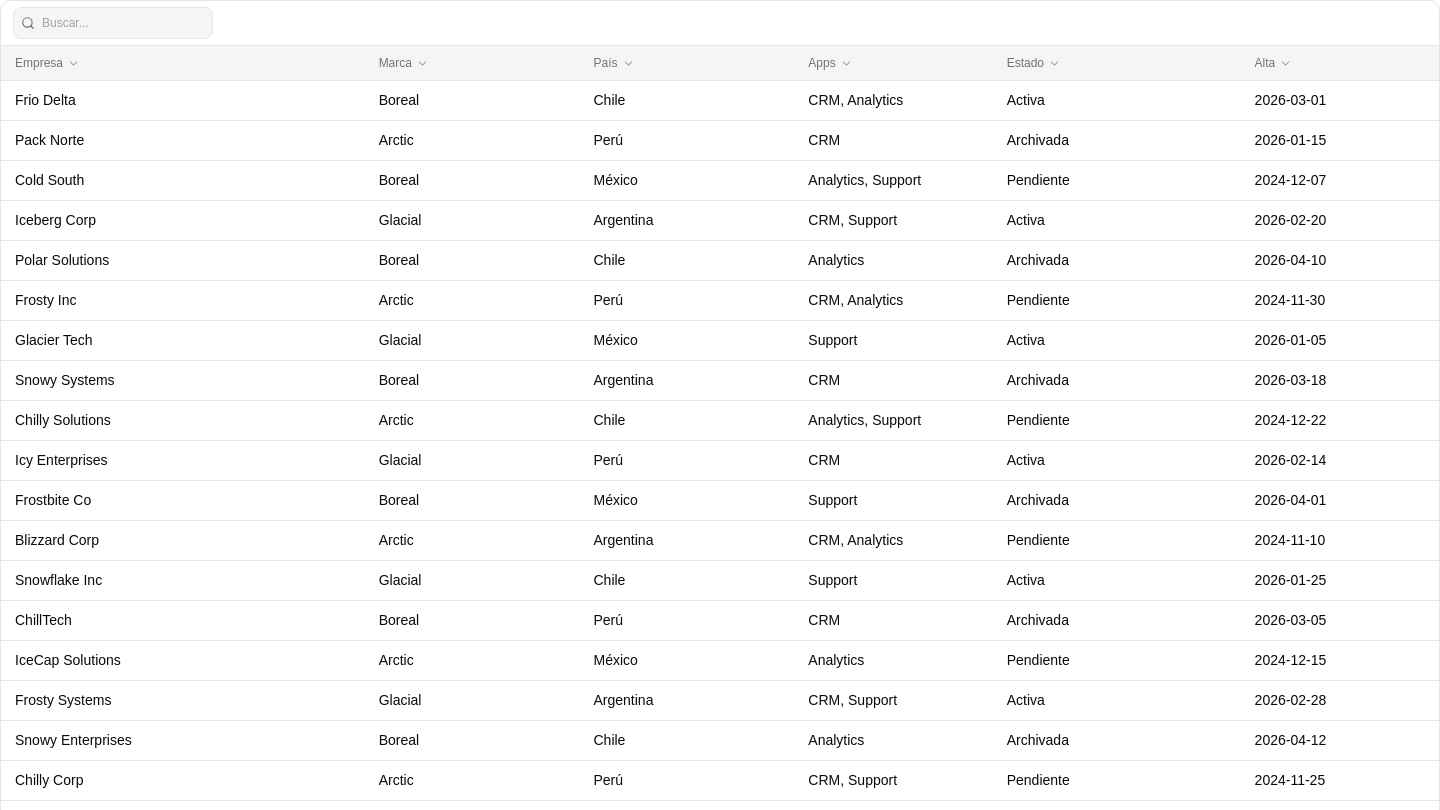
it: the global search ignores accents and case › in the table: peru
Type "peru" into the search field at (113, 23), box [13,7,213,39]
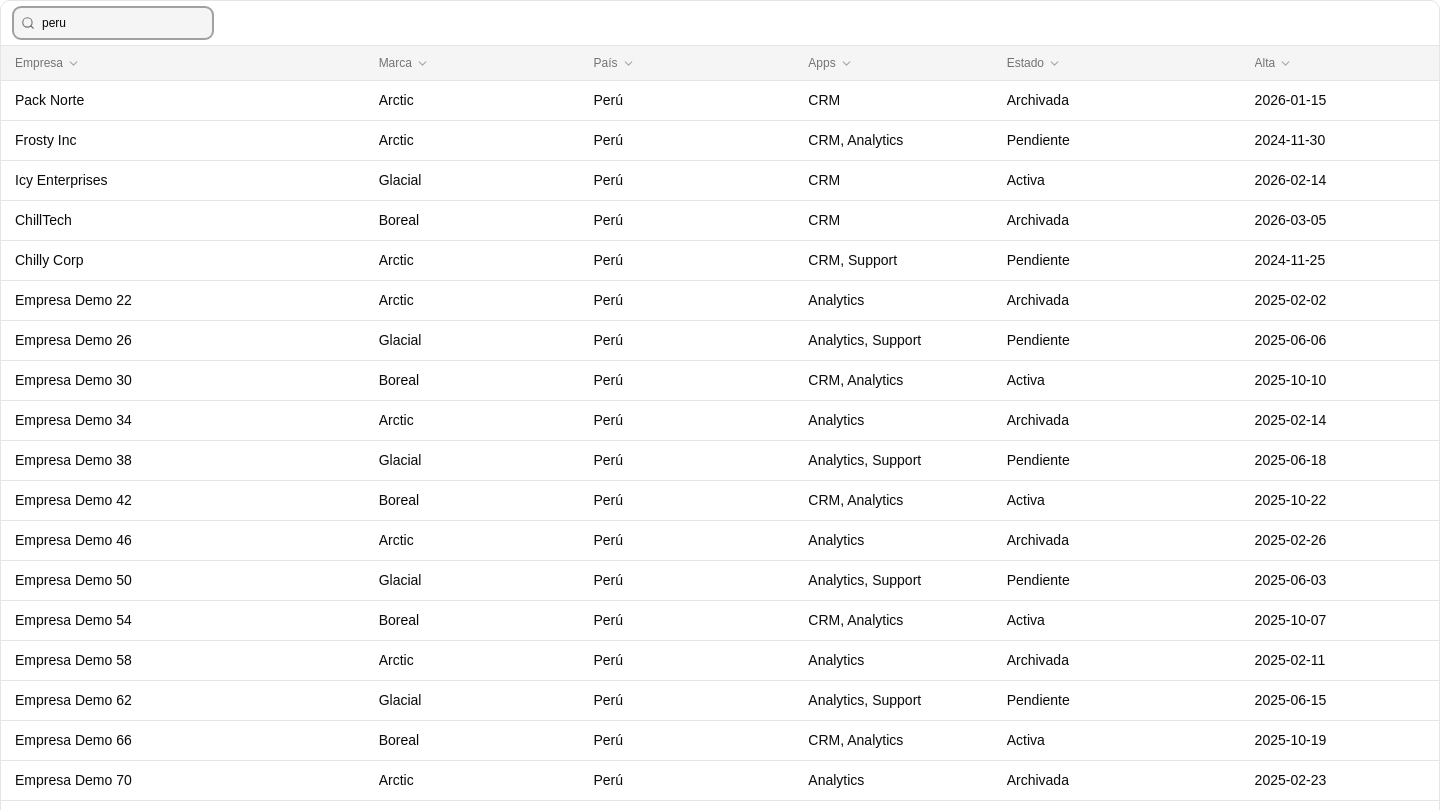
Expected: the number of rows with class "gdy-table-row" is 20
